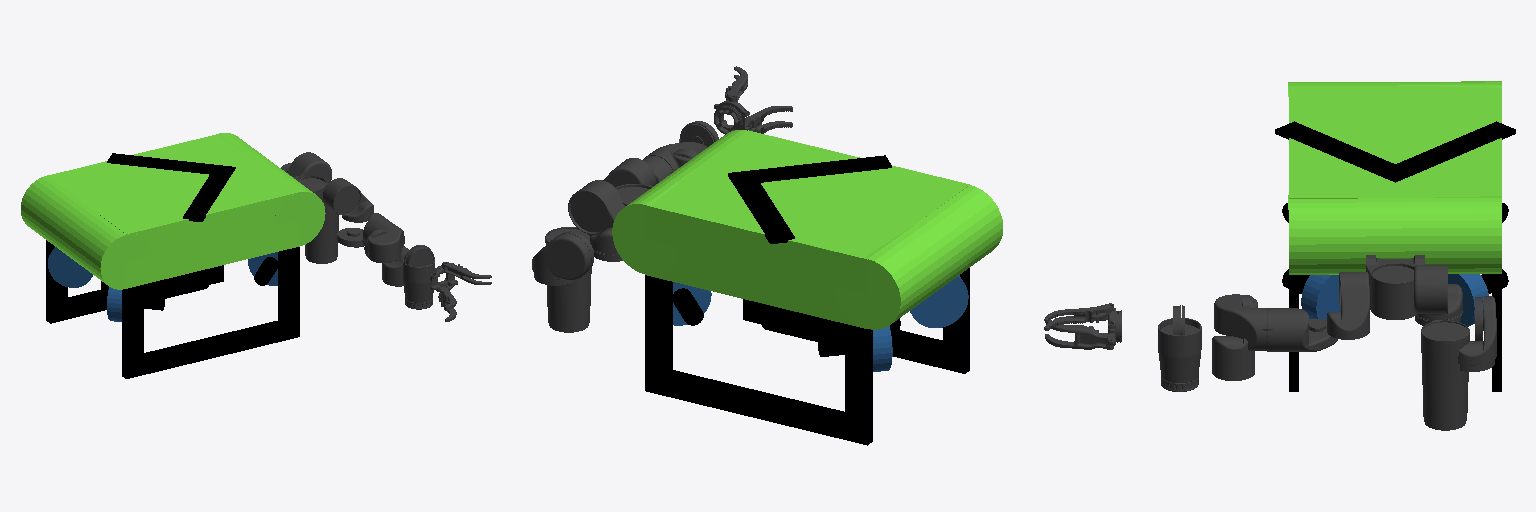
--- Render facts (derived) ---
The picture shows the robot from 3 angles, left to right: view 1: azimuth 30°, elevation 25°; view 2: azimuth 150°, elevation 25°; view 3: azimuth 270°, elevation 25°; orthographic projection.
Model uvms_alpha_seabotix with 32 links and 31 joints (7 revolute, 1 continuous, 1 prismatic, 22 fixed), rooted at vehicle_base_link, posed all joints at 0.
Links seen in each view (by area): view 1: vehicle_base_link, rear_bumper, R_bar, bravo_1013_joint_link, front_bumper, bravo_1023_1_joint_link, F_R_bar, B_R_bar, seabotix_bottle, r_arrow, l_arrow, pa_fan (+6 smaller); view 2: vehicle_base_link, rear_bumper, bravo_1013_joint_link, L_bar, front_bumper, B_L_bar, bravo_1019_end_link, F_L_bar, R_bar, seabotix_bottle, l_arrow, sa_fan (+9 smaller); view 3: vehicle_base_link, front_bumper, bravo_1013_joint_link, bravo_1023_1_joint_link, bravo_base_link, bravo_1019_end_link, bravo_1026_0_joint_link, bravo_1026_1_joint_link, l_arrow, r_arrow, bravo_1023_0_joint_link, sf_fan (+6 smaller).
Link boxes in pixels (x1,y1,x2,y2): vehicle_base_link: (51, 135, 299, 288); rear_bumper: (21, 175, 151, 289); R_bar: (122, 320, 285, 378); bravo_1013_joint_link: (281, 163, 373, 263); front_bumper: (216, 133, 325, 245); bravo_1023_1_joint_link: (403, 245, 457, 309); F_R_bar: (278, 247, 299, 340); B_R_bar: (122, 285, 143, 378); seabotix_bottle: (101, 269, 210, 304); r_arrow: (183, 165, 235, 221); l_arrow: (107, 153, 231, 174); pa_fan: (48, 247, 92, 287); vehicle_base_link: (645, 130, 969, 328); rear_bumper: (834, 185, 1002, 329); bravo_1013_joint_link: (532, 158, 655, 332); L_bar: (645, 370, 872, 444); front_bumper: (612, 130, 746, 275); B_L_bar: (845, 324, 872, 445); bravo_1019_end_link: (568, 180, 625, 261); F_L_bar: (645, 275, 672, 388); R_bar: (743, 299, 969, 373); seabotix_bottle: (759, 303, 900, 348); l_arrow: (728, 170, 794, 243); sa_fan: (910, 275, 968, 327); vehicle_base_link: (1289, 86, 1501, 198); front_bumper: (1288, 195, 1501, 274); bravo_1013_joint_link: (1327, 272, 1496, 430); bravo_1023_1_joint_link: (1108, 305, 1201, 391); bravo_base_link: (1366, 255, 1424, 319); bravo_1019_end_link: (1414, 265, 1462, 325); bravo_1026_0_joint_link: (1267, 308, 1337, 351); bravo_1026_1_joint_link: (1214, 294, 1272, 350); l_arrow: (1377, 121, 1515, 182); r_arrow: (1275, 121, 1412, 181); bravo_1023_0_joint_link: (1212, 295, 1254, 380); sf_fan: (1301, 275, 1339, 318).
Bounding box of the posed robot: 0.8669 × 0.8823 × 0.405 m (x, y, z).
Meshes: 15 distinct files referenced, 15 mesh visuals loaded (15 OBJ).

URDF robot description (uvms_alpha_seabotix):
<?xml version="1.0" encoding="utf-8"?>
<!-- =================================================================================== -->
<!-- |    This document was autogenerated by xacro from test_reach5mini.urdf.xacro     | -->
<!-- |    EDITING THIS FILE BY HAND IS NOT RECOMMENDED                                 | -->
<!-- |    Unless you're Hannah Kolano or Scott Chow  -->
<!-- =================================================================================== -->
<!-- when doing STL -> OBJ conversion, use this to keep origins: https://blender.stackexchange.com/questions/26451/how-to-move-a-complex-object-to-the-origin-without-destroying-it -->
<robot name="uvms_alpha_seabotix">
  <!-- ======================================= -->
  <!-- - - - - - - - MATERIALS - - - - - - - - -->
  <!-- ======================================= -->
    <material name="alpha_black">
      <color rgba="0.6 0.6 0.6 1"/>
    </material>
    <material name="green_v">
      <color rgba="0.5 0.9 0.3 1"/>
    </material>
    <material name="black">
      <color rgba="0 0 0 1"/>
    </material>
    <material name="black_v">
      <color rgba="0 0 0 1"/>
    </material>
    <material name="blue_v">
      <color rgba="0.2 0.4 0.6 1"/>
    </material>
    <material name="orange_v">
      <color rgba="1 .4 0 1"/>
    </material>
    <material name="grey_v">
      <color rgba=".3 .3 .3 1"/>
    </material>
    <material name="red_v">
      <color rgba="1 0 0 1"/>
    </material>

  <!-- ======================================= -->
  <!--               WORLD LINKS               -->
  <!-- ======================================= -->

  <!-- ======================================= -->
  <!--             VEHICLE LINKS               -->
  <!-- ======================================= -->
  <link name="vehicle_base_link">
    <visual>
      <geometry>
        <box size="0.5 0.4 0.15"/>
      </geometry>
      <material name="green_v"/>
      <!-- <origin rpy="1.57075 0 0" xyz="0 0 0"/> -->
      <!-- <origin rpy="0 0 0" xyz="0 0 0"/> -->
      <!-- <material name="alpha_black"/> -->
    </visual>
    <!-- Actual *not added* -->
    <!-- <inertial> -->
      <!-- <mass value="22.2"/>  -->
      <!-- Assume COM is 6cm below the center of the green box (13.5cm from top of vehicle) -->
      <!-- <origin xyz="0.0 0.0 -0.06"/> -->
      <!-- <inertia ixx=".75" ixy="0.0" ixz="0.0"  -->
      <!-- iyy="1.4" iyz="0.0"  -->
      <!-- izz="1.6"/> -->
    <!-- </inertial> -->
    <inertial>
      <!-- Plus small (conservative) added mass -->
      <mass value="30.3"/> 
      <!-- Assume COM is 6cm below the center of the green box (13.5cm from top of vehicle) -->
      <origin xyz="0.0 0.0 -0.06"/>
      <inertia ixx="6.31" ixy="0.0" ixz="0.22" 
      iyy="10.15" iyz="0.0" 
      izz="3.93"/>
    </inertial>
    
    
  </link>

<!-- IF YOU EVER ADD MORE LINKS, MAKE SURE TO CHANGE THE BUOYANCY FRAME VECTOR FOR THE ARM BASE FRAME!!! -->

<!-- ======= Bottom Frame ======= -->
  <link name="F_R_bar">
    <visual>
      <geometry>
        <box size = "0.25 0.02 0.05"/>
      </geometry>
      <material name="black_v"/>
    </visual>
  </link>
    <joint name="FRBarJoint" type="fixed">
      <parent link="vehicle_base_link"/>
      <child link="F_R_bar"/>
      <origin rpy="0 1.57075 0" xyz="0.225 -.19 -.2"/>
    </joint>
  <link name="F_L_bar">
    <visual>
      <geometry>
        <box size = "0.25 0.02 0.05"/>
      </geometry>
      <material name="black_v"/>
    </visual>
  </link>
    <joint name="FLBarJoint" type="fixed">
      <parent link="vehicle_base_link"/>
      <child link="F_L_bar"/>
      <origin rpy="0 1.57075 0" xyz="0.225 .19 -.2"/>
    </joint>
  <link name="B_L_bar">
      <visual>
        <geometry>
          <box size = "0.25 0.02 0.05"/>
        </geometry>
        <material name="black_v"/>
      </visual>
  </link>
    <joint name="BLBarJoint" type="fixed">
      <parent link="vehicle_base_link"/>
      <child link="B_L_bar"/>
      <origin rpy="0 1.57075 0" xyz="-0.225 .19 -.2"/>
    </joint>
  <link name="B_R_bar">
    <visual>
      <geometry>
        <box size = "0.25 0.02 0.05"/>
      </geometry>
      <material name="black_v"/>
    </visual>
  </link>
    <joint name="BRBarJoint" type="fixed">
      <parent link="vehicle_base_link"/>
      <child link="B_R_bar"/>
      <origin rpy="0 1.57075 0" xyz="-0.225 -.19 -.2"/>
    </joint>
  <link name="R_bar">
    <visual>
      <geometry>
        <box size = "0.5 0.02 0.05"/>
      </geometry>
      <material name="black_v"/>
    </visual>
  </link>
    <joint name="RBarJoint" type="fixed">
      <parent link="vehicle_base_link"/>
      <child link="R_bar"/>
      <origin rpy="0 0 0" xyz="0 -.19 -.3"/>
    </joint>
  <link name="L_bar">
    <visual>
      <geometry>
        <box size = "0.5 0.02 0.05"/>
      </geometry>
      <material name="black_v"/>
    </visual>
  </link>
    <joint name="LBarJoint" type="fixed">
      <parent link="vehicle_base_link"/>
      <child link="L_bar"/>
      <origin rpy="0 0 0" xyz="0 .19 -.3"/>
    </joint>

<!-- ======= Front/Back Bumpers ======= -->
  <link name="front_bumper">
    <visual>
      <geometry>
        <cylinder length="0.4" radius="0.075"/>
      </geometry>
      <material name="green_v"/>
     </visual>
  </link>
    <joint name="fbump_link" type="fixed">
      <parent link="vehicle_base_link"/>
      <child link="front_bumper"/>
      <origin rpy="1.57579632679 0 0" xyz="0.25 0 0"/>
    </joint>
  <link name="rear_bumper">
      <visual>
        <geometry>
          <cylinder length="0.4" radius="0.075"/>
        </geometry>
        <material name="green_v"/>
      </visual>
  </link>
    <joint name="rbump_link" type="fixed">
      <parent link="vehicle_base_link"/>
      <child link="rear_bumper"/>
      <origin rpy="1.57579632679 0 0" xyz="-0.25 0 0"/>
    </joint>

<!-- ======= Front Arrow ======= -->
  <link name="l_arrow">
    <visual>
      <geometry>
        <box size="0.05 0.318 0.01"/>
      </geometry>
      <material name="black_v"/>
    </visual>
  </link>
    <joint name="l_arrow_link" type="fixed">
      <parent link="vehicle_base_link"/>
      <child link="l_arrow"/>
      <origin rpy="0 0 0.787898163397" xyz="0.05 0.095 0.075"/>
    </joint>
  <link name="r_arrow">
    <visual>
      <geometry>
        <box size="0.05 0.318 0.01"/>
      </geometry>
      <material name="black_v"/>
    </visual>
  </link>
    <joint name="r_arrow_link" type="fixed">
      <parent link="vehicle_base_link"/>
      <child link="r_arrow"/>
      <origin rpy="0 0 -0.787898163397" xyz="0.05 -0.095 0.075"/>
    </joint>

<!-- ======= Thrusters ======= -->
  <link name="sf_fan">
    <visual>
      <geometry>
        <cylinder length="0.04" radius="0.06"/>
      </geometry>
      <material name="blue_v"/>
    </visual>
  </link>
    <joint name="base_to_sf_fan" type="fixed">
      <parent link="vehicle_base_link"/>
      <child link="sf_fan"/>
      <origin rpy="0 1.57579632679 0.785" xyz="0.22 -0.12 -0.14"/>
    </joint>
  <link name="sf_thruster">
    <visual>
      <geometry>
        <cylinder length="0.1" radius="0.02"/>
      </geometry>
      <material name="black_v"/>
    </visual>
  </link>
    <joint name="sf_fan_thruster_joint" type="fixed">
      <parent link="sf_fan"/>
      <child link="sf_thruster"/>
      <origin xyz="0 0 -0.06"/>
    </joint>
  <link name="pf_fan">
    <visual>
      <geometry>
        <cylinder length="0.04" radius="0.06"/>
      </geometry>
      <material name="blue_v"/>
    </visual>
  </link>
    <joint name="base_to_pf_fan" type="fixed">
      <parent link="vehicle_base_link"/>
      <child link="pf_fan"/>
      <origin rpy="0 1.57579632679 -0.785" xyz="0.22 0.12 -0.14"/>
    </joint>
  <link name="pf_thruster">
    <visual>
      <geometry>
        <cylinder length="0.1" radius="0.02"/>
      </geometry>
      <material name="black_v"/>
    </visual>
  </link>
    <joint name="pf_fan_thruster_joint" type="fixed">
      <parent link="pf_fan"/>
      <child link="pf_thruster"/>
      <origin xyz="0 0 -0.06"/>
    </joint>
  <link name="sa_fan">
    <visual>
      <geometry>
        <cylinder length="0.04" radius="0.06"/>
      </geometry>
      <material name="blue_v"/>
    </visual>
  </link>
    <joint name="base_to_sa_fan" type="fixed">
      <parent link="vehicle_base_link"/>
      <child link="sa_fan"/>
      <origin rpy="0 -1.57579632679 -0.785" xyz="-0.22 -0.12 -0.14"/>
    </joint>
  <link name="sa_thruster">
    <visual>
      <geometry>
        <cylinder length="0.1" radius="0.02"/>
      </geometry>
      <material name="black_v"/>
    </visual>
  </link>
    <joint name="sa_fan_thruster_joint" type="fixed">
      <parent link="sa_fan"/>
      <child link="sa_thruster"/>
      <origin xyz="0 0 -0.06"/>
    </joint>
  <link name="pa_fan">
    <visual>
      <geometry>
        <cylinder length="0.04" radius="0.06"/>
      </geometry>
      <material name="blue_v"/>
    </visual>
  </link>
    <joint name="base_to_pa_fan" type="fixed">
      <parent link="vehicle_base_link"/>
      <child link="pa_fan"/>
      <origin rpy="0 -1.57579632679 0.785" xyz="-0.22 0.12 -0.14"/>
    </joint>
  <link name="pa_thruster">
    <visual>
      <geometry>
        <cylinder length="0.1" radius="0.02"/>
      </geometry>
      <material name="black_v"/>
    </visual>
  </link>
    <joint name="pa_fan_thruster_joint" type="fixed">
      <parent link="pa_fan"/>
      <child link="pa_thruster"/>
      <origin xyz="0 0 -0.06"/>
    </joint>

  <link name="seabotix_bottle">
    <visual>
      <geometry>
        <cylinder length="0.26" radius="0.05"/>
      </geometry>
      <material name="black_v"/>
    </visual>
  </link>
    <joint name="sbottle_link" type="fixed">
      <parent link="vehicle_base_link"/>
      <child link="seabotix_bottle"/>
      <origin rpy="0 1.57579632679 0" xyz="-0.05 0 -0.18"/>
    </joint>

  <joint name="arm_to_vehicle" type="fixed">
    <origin rpy="0 0 0" xyz=".325 0 -.09"/>
    <parent link="vehicle_base_link"/>
    <child link="world"/>
  </joint>
<!-- ======================================= -->
<!--               BRAVO LINKS               -->
<!-- ======================================= -->
  <material name="bravo_black">
    <color rgba="0.3 0.3 0.3 1. "/>
  </material>
  <material name="bravo_finger_jaws_black">
    <color rgba="0.3 0.3 0.3 1. "/>
  </material>
  <link name="world"/>
  <joint name="bravo_joint" type="fixed">
    <origin rpy="1.5708 0 0" xyz="0 0 0"/>
    <parent link="world"/>
    <child link="bravo_base_link"/>
    <origin rpy="0 0 0" xyz="0 0 0"/>
    <dynamics damping="10.0" friction="0.0"/>
  </joint>
  <link name="ee_link"/>
  <joint name="ee_link_joint" type="fixed">
    <parent link="bravo_1023_1_joint_link"/>
    <child link="ee_link"/>
    <origin rpy="0 0 -1.5707" xyz="0 0 0.120"/>
  </joint>
  <link name="bravo_base_link">
    <inertial>
      <mass value="1.25"/>
      <origin xyz="-0.075 -0.006 -0.003"/>
      <inertia ixx="0.002108" ixy="0.00018199999999999998" ixz="-1.4999999999999999e-05" iyy="0.0025729999999999998" iyz="-2.1e-05" izz="0.003483"/>
    </inertial>
    <visual>
      <geometry>
        <mesh filename="package://bpl_bravo_description_real/meshes/RS2-1019_base.obj"/>
      </geometry>
      <material name="bravo_black"/>
      <origin rpy="0.0 -0.0 0.0" xyz="0.0 0.0 0.0"/>
    </visual>
    <collision>
      <geometry>
        <box size="0.0725 0.1112 0.083 "/>
      </geometry>
      <origin rpy="0.0 0.0 0.0" xyz="0.03625 0.0 0.0415"/>
    </collision>
    <collision>
      <geometry>
        <box size="0.05 0.08 0.06"/>
      </geometry>
      <origin rpy="0.0 0.0 0.0" xyz="0.025 -0.04556 0.03"/>
    </collision>
    <collision>
      <geometry>
        <cylinder length="0.083" radius="0.046"/>
      </geometry>
      <origin rpy="0.0 0.0 0.0" xyz="0.0665 0.0 0.0415"/>
    </collision>
  </link>
  <link name="bravo_1019_end_link">
    <inertial>
      <mass value="1.55"/>
      <inertia ixx="0.011441999999999999" ixy="-0.000484" ixz="0.003405" iyy="0.01298" iyz="-0.0012649999999999998" izz="0.003202"/>
      <origin xyz="0.005 -0.001 0.016"/>
    </inertial>
    <visual>
      <geometry>
        <mesh filename="package://bpl_bravo_description_real/meshes/RS2-1019_end.obj"/>
      </geometry>
      <material name="bravo_black"/>
      <origin rpy="0.0 -0.0 0.0" xyz="0.0 0.0 0.0"/>
    </visual>
    <visual>
      <geometry>
        <mesh filename="package://bpl_bravo_description_real/meshes/RS2-1013_base.obj"/>
      </geometry>
      <material name="bravo_black"/>
      <origin rpy="0.0 -0.0 3.1415" xyz="0.0 0.0 0.0"/>
    </visual>
    <collision>
      <geometry>
        <mesh filename="package://bpl_bravo_description_real/meshes/RS2-1019_end.obj"/>
      </geometry>
      <origin rpy="0.0 -0.0 0.0" xyz="0.0 0.0 0.0"/>
    </collision>
    <collision>
      <geometry>
        <cylinder length="0.03" radius="0.046"/>
      </geometry>
      <origin rpy="0.0 -0.0 0.0" xyz="0.0 0.0 0.015"/>
    </collision>
    <collision>
      <geometry>
        <cylinder length="0.1" radius="0.046"/>
      </geometry>
      <origin rpy="1.5707 -0.0 0.0" xyz="0.048 0.0 0.0642"/>
    </collision>
  </link>
  <link name="bravo_1013_joint_link">
    <inertial>
      <mass value="1.14"/>
      <origin xyz="0.022 -0.029 0.001"/>
      <inertia ixx="0.0032129999999999997" ixy="-0.001548" ixz="-3.1e-05" iyy="0.002327" iyz="6e-06" izz="0.00434"/>
    </inertial>
    <visual>
      <geometry>
        <mesh filename="package://bpl_bravo_description_real/meshes/RS2-1013_end.obj"/>
      </geometry>
      <material name="bravo_black"/>
      <origin rpy="0.0 -0.0 0" xyz="0 0 0"/>
    </visual>
    <visual>
      <geometry>
        <mesh filename="package://bpl_bravo_description_real/meshes/RS2-1026_0_base.obj"/>
      </geometry>
      <material name="bravo_black"/>
      <origin rpy="0.0 -0.0 3.14159" xyz="0.04600000000128156 -0.23255 0"/>
    </visual>
    <visual>
      <geometry>
        <mesh filename="package://bpl_bravo_description_real/meshes/RS2-1030.obj"/>
      </geometry>
      <material name="bravo_black"/>
      <origin rpy="3.14159 -0.0 0" xyz="0.046 -0.05055 0"/>
    </visual>
    <collision>
      <geometry>
        <cylinder length="0.03" radius="0.046"/>
      </geometry>
      <origin rpy="0.0 0.0 0.0" xyz="0.046 0.0 -0.03555"/>
    </collision>
    <collision>
      <geometry>
        <cylinder length="0.03" radius="0.0408"/>
      </geometry>
      <origin rpy="3.14159 -0.0 3.14159" xyz="0.04600000000138718 5.227571892886473e-07 -0.24754999999930644"/>
    </collision>
    <collision>
      <geometry>
        <cylinder length="0.0816" radius="0.0408"/>
      </geometry>
      <origin rpy="-1.5708953071795866 -0.0 3.14159" xyz="0.005200000001832204 7.445972960125356e-07 -0.29034999999915573"/>
    </collision>
    <collision>
      <geometry>
        <cylinder length="0.03033333" radius="0.046"/>
      </geometry>
      <origin rpy="3.14159 -0.0 3.14159" xyz="0.046000000000106796 4.0246094175109416e-08 -0.0657166599999466"/>
    </collision>
    <collision>
      <geometry>
        <cylinder length="0.03033333" radius="0.045"/>
      </geometry>
      <origin rpy="3.14159 -0.0 3.14159" xyz="0.04600000000032039 1.207383355971241e-07 -0.0960499999998398"/>
    </collision>
    <collision>
      <geometry>
        <cylinder length="0.03033333" radius="0.044"/>
      </geometry>
      <origin rpy="3.14159 -0.0 3.14159" xyz="0.04600000000053398 2.0123055844401027e-07 -0.126383332999733"/>
    </collision>
    <collision>
      <geometry>
        <cylinder length="0.03033333" radius="0.043"/>
      </geometry>
      <origin rpy="3.14159 -0.0 3.14159" xyz="0.046000000000747575 2.817227828830503e-07 -0.15671666659962621"/>
    </collision>
    <collision>
      <geometry>
        <cylinder length="0.03033333" radius="0.042"/>
      </geometry>
      <origin rpy="3.14159 -0.0 3.14159" xyz="0.04600000000096117 3.6221500679137236e-07 -0.18704999999951943"/>
    </collision>
    <collision>
      <geometry>
        <cylinder length="0.03033333" radius="0.041"/>
      </geometry>
      <origin rpy="3.14159 -0.0 3.14159" xyz="0.04600000000117476 4.427071420697953e-07 -0.21738329999941264"/>
    </collision>
  </link>
  <link name="bravo_1026_0_joint_link">
    <inertial>
      <origin rpy="0.0 -0.0 0.0" xyz="0.017 -0.026 -0.002"/>
      <mass value="1.14"/>
      <inertia ixx="0.021231999999999997" ixy="0.00033" ixz="-0.003738" iyy="0.022251999999999997" iyz="-0.0012779999999999998" izz="0.002054"/>
    </inertial>
    <visual>
      <geometry>
        <mesh filename="package://bpl_bravo_description_real/meshes/RS2-1026_0_end.obj"/>
      </geometry>
      <material name="bravo_black"/>
      <origin rpy="0.0 -0.0 0.0" xyz="0.0 0.0 0.0"/>
    </visual>
    <collision>
      <geometry>
        <cylinder length="0.08" radius="0.0408"/>
      </geometry>
      <origin rpy="0.0 0.0 0.0" xyz="0.0408 0.0 -0.05385"/>
    </collision>
  </link>
  <link name="bravo_1026_1_joint_link">
    <inertial>
      <mass value="1.03"/>
      <origin xyz="0.020 -0.024 0.001"/>
      <inertia ixx="0.00243" ixy="-0.001144" ixz="-3.9999999999999996e-05" iyy="0.002026" iyz="1.1e-05" izz="0.00333"/>
    </inertial>
    <visual>
      <geometry>
        <mesh filename="package://bpl_bravo_description_real/meshes/RS2-1026_1_end.obj"/>
      </geometry>
      <material name="bravo_black"/>
      <origin rpy="0.0 3.14159 0" xyz="0.0 0.0 0.0056"/>
    </visual>
    <visual>
      <geometry>
        <mesh filename="package://bpl_bravo_description_real/meshes/RS2-1023_0_base.obj"/>
      </geometry>
      <material name="bravo_black"/>
      <origin rpy="0.0 3.14159 0" xyz="0.0 0.0 0.0056"/>
    </visual>
    <collision>
      <geometry>
        <cylinder length="0.0056" radius="0.0408"/>
      </geometry>
      <origin rpy="0.0 0.0 3.14159" xyz="0.0 0.0 0.0028"/>
    </collision>
    <collision>
      <geometry>
        <cylinder length="0.03" radius="0.0408"/>
      </geometry>
      <origin rpy="0.0 -0.0 3.14159" xyz="0.0 0.0 0.0206"/>
    </collision>
    <collision>
      <geometry>
        <cylinder length="0.0816" radius="0.0408"/>
      </geometry>
      <origin rpy="1.5707 -0.0 3.14159" xyz="-0.040799999999856354 1.082664635687914e-07 0.0634"/>
    </collision>
  </link>
  <link name="bravo_1023_0_joint_link">
    <inertial>
      <origin rpy="0.0 -0.0 0.0" xyz="0.0 0.003 -0.098"/>
      <mass value="0.333"/>
      <inertia ixx="0.003709" ixy="-2e-06" ixz="-4e-06" iyy="0.003734" iyz="0.0" izz="7.9e-05"/>
    </inertial>
    <visual>
      <geometry>
        <mesh filename="package://bpl_bravo_description_real/meshes/RS2-1023_0_end.obj"/>
      </geometry>
      <material name="bravo_black"/>
      <origin rpy="0.0 -0.0 0.0" xyz="0.0 0.0 0.0"/>
    </visual>
    <collision>
      <geometry>
        <cylinder length="0.08" radius="0.0408"/>
      </geometry>
      <origin rpy="0.0 0.0 0.0" xyz="0.0408 0.0 -0.05385"/>
    </collision>
  </link>
  <link name="bravo_1023_1_joint_link">
    <inertial>
      <origin xyz="0.0 0.003 -0.098"/>
      <mass value="1.04"/>
      <inertia ixx="0.022359" ixy="1e-06" ixz="-1.8999999999999998e-05" iyy="0.022362999999999997" iyz="1.4999999999999999e-05" izz="0.000936"/>
    </inertial>
    <visual>
      <geometry>
        <mesh filename="package://bpl_bravo_description_real/meshes/RS2-1023_1_end.obj"/>
      </geometry>
      <material name="bravo_black"/>
      <origin rpy="0.0 -0.0 0.0" xyz="0.0 0.0 0.0"/>
    </visual>
    <visual>
      <geometry>
        <mesh filename="package://bpl_bravo_description_real/meshes/RS2-1028.obj"/>
      </geometry>
      <material name="bravo_black"/>
      <origin rpy="0.0 -0.0 0.0" xyz="0.0 0.0056 0"/>
    </visual>
    <visual>
      <geometry>
        <mesh filename="package://bpl_bravo_description_real/meshes/end_effectors/RS2-257.obj"/>
      </geometry>
      <material name="bravo_finger_jaws_black"/>
      <origin rpy="3.14159 0 1.57" xyz="0.0 0.1256 0"/>
    </visual>
    <collision>
      <geometry>
        <cylinder length="0.0056" radius="0.0408"/>
      </geometry>
      <origin rpy="0.0 0.0 0.0" xyz="0.0 0.0 0.0028"/>
    </collision>
    <collision>
      <geometry>
        <cylinder length="0.12" radius="0.0408"/>
      </geometry>
      <origin rpy="0.0 -0.0 0.0" xyz="0.0 0.0 0.06559999999999999"/>
    </collision>
    <collision>
      <geometry>
        <cylinder length="0.02" radius="0.05"/>
      </geometry>
      <origin rpy="-9.632679489654805e-05 -9.631751559834678e-05 -1.5706999907215955" xyz="9.632679474766714e-07 0.0 0.13559999995360572"/>
    </collision>
  </link>
  <link name="bravo_push_rod">
    <inertial>
      <origin rpy="0.0 -0.0 0.0" xyz="0.0 0.0 0.0"/>
      <mass value="0.1"/>
      <inertia ixx="0.0001" ixy="0.0" ixz="0.0" iyy="0.0001" iyz="0.0" izz="0.0001"/>
    </inertial>
  </link>
  <link name="bravo_finger_jaws_rs2_300_link">
    <inertial>
      <origin rpy="0.0 -0.0 0.0" xyz="0.05 0.0 0.0"/>
      <mass value="0.24"/>
      <inertia ixx="0.000244" ixy="-1.2e-05" ixz="0.0" iyy="0.00113" iyz="1e-06" izz="0.001178"/>
    </inertial>
    <visual>
      <geometry>
        <mesh filename="package://bpl_bravo_description_real/meshes/end_effectors/RS2-300.obj"/>
      </geometry>
      <material name="bravo_finger_jaws_black"/>
      <origin rpy="0.0 -0.0 0.0" xyz="0.0 0.0 0.0"/>
    </visual>
    <collision>
      <geometry>
        <mesh filename="package://bpl_bravo_description_real/meshes/end_effectors/RS2-300.obj"/>
      </geometry>
      <origin rpy="0.0 -0.0 0.0" xyz="0.0 0.0 0.0"/>
    </collision>
  </link>
  <link name="bravo_finger_jaws_rs2_301_link">
    <inertial>
      <origin rpy="0.0 -0.0 0.0" xyz="0.05 0.0 0.0"/>
      <mass value="0.24"/>
      <inertia ixx="0.000244" ixy="-1.2e-05" ixz="0.0" iyy="0.00113" iyz="1e-06" izz="0.001178"/>
    </inertial>
    <visual>
      <geometry>
        <mesh filename="package://bpl_bravo_description_real/meshes/end_effectors/RS2-301.obj"/>
      </geometry>
      <material name="bravo_finger_jaws_black"/>
      <origin rpy="0.0 -0.0 0.0" xyz="0.0 0.0 0.0"/>
    </visual>
    <collision>
      <geometry>
        <mesh filename="package://bpl_bravo_description_real/meshes/end_effectors/RS2-301.obj"/>
      </geometry>
      <origin rpy="0.0 -0.0 0.0" xyz="0.0 0.0 0.0"/>
    </collision>
  </link>
  <joint name="bravo_axis_g" type="revolute">
    <dynamics damping="10.0" friction="0.0"/>
    <limit effort="500.0" lower="0.0" upper="6.2" velocity="3.0"/>
    <parent link="bravo_base_link"/>
    <child link="bravo_1019_end_link"/>
    <axis xyz=" 0.  0. -1."/>
    <origin rpy="0.0 0.0 3.14159" xyz="0.0665 0.08 0.0"/>
  </joint>
  <joint name="bravo_axis_a" type="prismatic">
    <dynamics damping="10.0" friction="0.0"/>
    <limit effort="1000.0" lower="0.0" upper="0.035" velocity="10.0"/>
    <parent link="bravo_1023_1_joint_link"/>
    <child link="bravo_push_rod"/>
    <axis xyz="0. 0. 1."/>
    <origin rpy="-1.5707 -1.5706999999997038 0.0" xyz="-8.669411487068951e-07 0.008999999958245167 0.12560000008350966"/>
  </joint>
  <joint name="bravo_finger_jaws_rs2_300_joint" type="revolute">
    <limit effort="400.0" lower="0.0" upper="1.0" velocity="3.0"/>
    <mimic joint="bravo_axis_a" multiplier="18.0" offset="0.0"/>
    <parent link="bravo_1023_1_joint_link"/>
    <child link="bravo_finger_jaws_rs2_300_link"/>
    <axis xyz=" 0.  0. -1."/>
    <origin rpy="0 3.14159 -1.5707" xyz="0 0.13529682117078565 -0.033"/>
  </joint>
  <joint name="bravo_finger_jaws_rs2_301_joint" type="revolute">
    <limit effort="400.0" lower="0.0" upper="1.0" velocity="3.0"/>
    <mimic joint="bravo_finger_jaws_rs2_300_joint" multiplier="1.0" offset="0.0"/>
    <parent link="bravo_1023_1_joint_link"/>
    <child link="bravo_finger_jaws_rs2_301_link"/>
    <axis xyz="0. 0. 1."/>
    <origin rpy="0 3.14159 -1.5707" xyz="0 0.13529682117078565 0.033"/>
  </joint>
  <joint name="bravo_axis_b" type="continuous">
    <dynamics damping="10.0" friction="0.0"/>
    <limit effort="500.0" lower="0.0" upper="6.2" velocity="3.0"/>
    <parent link="bravo_1023_0_joint_link"/>
    <child link="bravo_1023_1_joint_link"/>
    <axis xyz=" 0.  0. -1."/>
    <origin rpy="3.14159 -0.0 0" xyz="0.0408 -0.09434999999999824 0"/>
  </joint>
  <joint name="bravo_axis_c" type="revolute">
    <dynamics damping="10.0" friction="0.0"/>
    <limit effort="500.0" lower="0.0" upper="3.2" velocity="3.0"/>
    <parent link="bravo_1026_1_joint_link"/>
    <child link="bravo_1023_0_joint_link"/>
    <axis xyz=" 0. -1.  0."/>
    <origin rpy="0.0 3.14159 3.14159" xyz="-0.041999999999852135 0.0634 0"/>
  </joint>
  <joint name="bravo_axis_d" type="revolute">
    <dynamics damping="10.0" friction="0.0"/>
    <limit effort="500.0" lower="0.0" upper="6.2" velocity="3.0"/>
    <parent link="bravo_1026_0_joint_link"/>
    <child link="bravo_1026_1_joint_link"/>
    <axis xyz=" 0.  0. -1."/>
    <origin rpy="3.14159 -0.0 0.0" xyz="0.0408 -0.09434999999999824 0.0056"/>
  </joint>
  <joint name="bravo_axis_e" type="revolute">
    <dynamics damping="10.0" friction="0.0"/>
    <limit effort="500.0" lower="0.0" upper="3.14" velocity="3.0"/>
    <parent link="bravo_1013_joint_link"/>
    <child link="bravo_1026_0_joint_link"/>
    <axis xyz=" 0. -1.  0."/>
    <origin rpy="0 0 0" xyz="0 -0.29035 0"/>
  </joint>
  <joint name="bravo_axis_f" type="revolute">
    <dynamics damping="10.0" friction="0.0"/>
    <limit effort="500.0" lower="0.0" upper="3.14" velocity="3.0"/>
    <parent link="bravo_1019_end_link"/>
    <child link="bravo_1013_joint_link"/>
    <axis xyz=" 0. -1.  0."/>
    <origin rpy="0.0 -0.0 3.14159" xyz="-0.046 -0.0642 0"/>
  </joint>
  <gazebo>
    <plugin filename="libroboticsgroup_upatras_gazebo_mimic_joint_plugin.so" name="bravo_finger_jaws_rs2_300_jointmimic_joint_plugin">
      <joint>bravo_axis_a</joint>
      <mimicJoint>bravo_finger_jaws_rs2_300_joint</mimicJoint>
      <multiplier>18.0</multiplier>
      <offset>0</offset>
      <sensitiveness>0.0</sensitiveness>
      <!-- if absolute difference between setpoint and process value is below this threshold, do nothing; 0.0 = disable [rad] -->
      <maxEffort>400.0</maxEffort>
      <robotNamespace>bravo</robotNamespace>
    </plugin>
  </gazebo>
  <gazebo>
    <plugin filename="libroboticsgroup_upatras_gazebo_mimic_joint_plugin.so" name="bravo_finger_jaws_rs2_301_jointmimic_joint_plugin">
      <joint>bravo_axis_a</joint>
      <mimicJoint>bravo_finger_jaws_rs2_301_joint</mimicJoint>
      <multiplier>18.0</multiplier>
      <offset>0</offset>
      <sensitiveness>0.0</sensitiveness>
      <!-- if absolute difference between setpoint and process value is below this threshold, do nothing; 0.0 = disable [rad] -->
      <maxEffort>400.0</maxEffort>
      <robotNamespace>bravo</robotNamespace>
    </plugin>
  </gazebo>
  <!-- axis_g -->
  <gazebo reference="bravo_axis_g">
    <implicitSpringDamper>1</implicitSpringDamper>
  </gazebo>
  <!-- axis_f -->
  <gazebo reference="bravo_axis_f">
    <implicitSpringDamper>1</implicitSpringDamper>
  </gazebo>
  <!-- axis_e -->
  <gazebo reference="bravo_axis_e">
    <implicitSpringDamper>1</implicitSpringDamper>
  </gazebo>
  <!-- axis_d -->
  <gazebo reference="bravo_axis_d">
    <implicitSpringDamper>1</implicitSpringDamper>
  </gazebo>
  <!-- axis_c -->
  <gazebo reference="bravo_axis_c">
    <implicitSpringDamper>1</implicitSpringDamper>
  </gazebo>
  <!-- axis_b -->
  <gazebo reference="bravo_axis_b">
    <implicitSpringDamper>1</implicitSpringDamper>
  </gazebo>
  <!-- axis_a -->
  <gazebo reference="bravo_axis_a">
    <implicitSpringDamper>1</implicitSpringDamper>
  </gazebo>
  <!-- Links (added for all links with collision geometry -->
  <gazebo reference="bravo_base_link">
    <mu1>0.2</mu1>
    <mu2>0.2</mu2>
    <turnGravityOff>true</turnGravityOff>
    <!-- gravity is turned off in all these links because moveit_servo + roscontrol don't have gravity compensation built in. -->
  </gazebo>
  <gazebo reference="bravo_1019_end_link">
    <mu1>0.2</mu1>
    <mu2>0.2</mu2>
    <turnGravityOff>true</turnGravityOff>
  </gazebo>
  <!-- 1013_joint_link -->
  <gazebo reference="bravo_1013_joint_link">
    <mu1>0.2</mu1>
    <mu2>0.2</mu2>
    <turnGravityOff>true</turnGravityOff>
  </gazebo>
  <!-- 1026_0_joint_link -->
  <gazebo reference="bravo_1026_0_joint_link">
    <mu1>0.2</mu1>
    <mu2>0.2</mu2>
    <turnGravityOff>true</turnGravityOff>
  </gazebo>
  <!-- 1026_1_joint_link -->
  <gazebo reference="bravo_1026_1_joint_link">
    <mu1>0.2</mu1>
    <mu2>0.2</mu2>
    <turnGravityOff>true</turnGravityOff>
  </gazebo>
  <!-- 1023_0_joint_link -->
  <gazebo reference="bravo_1023_0_joint_link">
    <mu1>0.2</mu1>
    <mu2>0.2</mu2>
    <turnGravityOff>true</turnGravityOff>
  </gazebo>
  <!-- 1023_1_joint_link -->
  <gazebo reference="bravo_1023_1_joint_link">
    <mu1>0.2</mu1>
    <mu2>0.2</mu2>
    <turnGravityOff>true</turnGravityOff>
  </gazebo>
  <gazebo reference="bravo_push_rod">
    <turnGravityOff>true</turnGravityOff>
  </gazebo>
  <!-- Finger 1 -->
  <gazebo reference="bravo_finger_jaws_rs2_300_link">
    <material>Gazebo/Grey</material>
    <mu1>100.0</mu1>
    <mu2>100.0</mu2>
    <turnGravityOff>true</turnGravityOff>
  </gazebo>
  <!-- Finger 2 -->
  <gazebo reference="bravo_finger_jaws_rs2_301_link">
    <material>Gazebo/Grey</material>
    <mu1>100.0</mu1>
    <mu2>100.0</mu2>
    <turnGravityOff>true</turnGravityOff>
  </gazebo>
  <!-- Joint Transmissions -->
  <transmission name="trans_bravo_axis_g">
    <type>transmission_interface/SimpleTransmission</type>
    <joint name="bravo_axis_g">
      <hardwareInterface>hardware_interface/EffortJointInterface</hardwareInterface>
    </joint>
    <actuator name="bravo_axis_g_motor">
      <hardwareInterface>hardware_interface/EffortJointInterface</hardwareInterface>
      <mechanicalReduction>1</mechanicalReduction>
    </actuator>
  </transmission>
  <transmission name="trans_bravo_axis_f">
    <type>transmission_interface/SimpleTransmission</type>
    <joint name="bravo_axis_f">
      <hardwareInterface>hardware_interface/EffortJointInterface</hardwareInterface>
    </joint>
    <actuator name="bravo_axis_f_motor">
      <hardwareInterface>hardware_interface/EffortJointInterface</hardwareInterface>
      <mechanicalReduction>1</mechanicalReduction>
    </actuator>
  </transmission>
  <transmission name="trans_bravo_axis_e">
    <type>transmission_interface/SimpleTransmission</type>
    <joint name="bravo_axis_e">
      <hardwareInterface>hardware_interface/EffortJointInterface</hardwareInterface>
    </joint>
    <actuator name="bravo_axis_e_motor">
      <hardwareInterface>hardware_interface/EffortJointInterface</hardwareInterface>
      <mechanicalReduction>1</mechanicalReduction>
    </actuator>
  </transmission>
  <transmission name="trans_bravo_axis_d">
    <type>transmission_interface/SimpleTransmission</type>
    <joint name="bravo_axis_d">
      <hardwareInterface>hardware_interface/EffortJointInterface</hardwareInterface>
    </joint>
    <actuator name="bravo_axis_d_motor">
      <hardwareInterface>hardware_interface/EffortJointInterface</hardwareInterface>
      <mechanicalReduction>1</mechanicalReduction>
    </actuator>
  </transmission>
  <transmission name="trans_bravo_axis_c">
    <type>transmission_interface/SimpleTransmission</type>
    <joint name="bravo_axis_c">
      <hardwareInterface>hardware_interface/EffortJointInterface</hardwareInterface>
    </joint>
    <actuator name="bravo_axis_c_motor">
      <hardwareInterface>hardware_interface/EffortJointInterface</hardwareInterface>
      <mechanicalReduction>1</mechanicalReduction>
    </actuator>
  </transmission>
  <transmission name="trans_bravo_axis_b">
    <type>transmission_interface/SimpleTransmission</type>
    <joint name="bravo_axis_b">
      <hardwareInterface>hardware_interface/EffortJointInterface</hardwareInterface>
    </joint>
    <actuator name="bravo_axis_b_motor">
      <hardwareInterface>hardware_interface/EffortJointInterface</hardwareInterface>
      <mechanicalReduction>1</mechanicalReduction>
    </actuator>
  </transmission>
  <transmission name="trans_bravo_axis_a">
    <type>transmission_interface/SimpleTransmission</type>
    <joint name="bravo_axis_a">
      <hardwareInterface>hardware_interface/EffortJointInterface</hardwareInterface>
    </joint>
    <actuator name="bravo_axis_a_motor">
      <hardwareInterface>hardware_interface/EffortJointInterface</hardwareInterface>
      <mechanicalReduction>1</mechanicalReduction>
    </actuator>
  </transmission>
  <gazebo>
    <plugin filename="libgazebo_ros_control.so" name="gazebo_ros_control">
      <robotNamespace>bravo</robotNamespace>
      <legacyModeNS>True</legacyModeNS>
    </plugin>
  </gazebo>
  <!-- A box to emulate the depth camera -->
  <!-- <link name="depth_cam_link">
    <pose>0 0 0 0 0 0</pose>
    <visual>
      <origin rpy="0 0 0" xyz="-0.05 0 -0.02"/>
      <geometry>
        <box size="0.05 0.12 0.07"/>
      </geometry>
      <material name="Orange">
        <color rgba="0.84 0.246 0.035 1.0"/>
      </material>
    </visual>
    <collision>
      <origin rpy="0 0 0" xyz="-0.05 0 -0.02"/>
      <geometry>
        <box size="0.05 0.12 0.07"/>
      </geometry>
    </collision>
  </link> -->
  <!-- workaround for rotated kinect output -->
  <!-- https://answers.gazebosim.org/question/4266/gazebo-15-libgazebo_openni_kinectso-pointcloud-data-is-rotated-and-flipped/?answer=26388#post-id-26388 -->
  <!-- <link name="kinect_optical_link"/>
  <joint name="depth_cam_to_kinect_optical_link" type="fixed">
    <parent link="depth_cam_link"/>
    <child link="kinect_optical_link"/>
    <origin rpy="-1.5708 0 -1.5708"/>
  </joint>
  <gazebo reference="depth_cam_link">
    <static>1</static>
    <sensor name="camera" type="depth">
      <updateRate>30.0</updateRate>
      <camera>
        <horizontal_fov>1.047</horizontal_fov>
        <image>
          <width>300</width>
          <height>300</height>
          <format>R8G8B8</format>
        </image>
        <clip>
          <near>0.25</near>
          <far>100</far>
        </clip>
      </camera>
      <!http://gazebosim.org/tutorials/?tut=ros_depth_camera -->
      <!-- <plugin filename="libgazebo_ros_openni_kinect.so" name="camera_plugin">
        <baseline>0.2</baseline>
        <alwaysOn>true</alwaysOn>
        <Keep this zero, update_rate in the parent <sensor> tag
            will control the frame rate. -->
        <!-- <updateRate>0.0</updateRate>
        <cameraName>camera_ir</cameraName>
        <imageTopicName>/camera/color/image_raw</imageTopicName>
        <cameraInfoTopicName>/camera/color/camera_info</cameraInfoTopicName>
        <depthImageTopicName>/camera/depth/image_raw</depthImageTopicName>
        <depthImageCameraInfoTopicName>/camera/depth/camera_info</depthImageCameraInfoTopicName>
        <pointCloudTopicName>/camera/depth/points</pointCloudTopicName>
        <frameName>/kinect_optical_link</frameName>
        <pointCloudCutoff>0.1</pointCloudCutoff>
        <pointCloudCutoffMax>3.0</pointCloudCutoffMax>
        <distortionK1>0</distortionK1>
        <distortionK2>0</distortionK2>
        <distortionK3>0</distortionK3>
        <distortionT1>0</distortionT1>
        <distortionT2>0</distortionT2>
        <CxPrime>0</CxPrime>
        <Cx>0</Cx>
        <Cy>0</Cy>
        <focalLength>0</focalLength>
        <hackBaseline>0</hackBaseline>
      </plugin>
    </sensor>
  </gazebo> -->
  <!--
        The depth camera is mounted parallel to the jaws on the wrist, but is
        measured from a frame coincident with bravo_1028_base_link. So we add a
        virtual link to account for the jaw_yaw_offset roll calibration, with the
        same origin but a slight roll.
        -->
  <!-- <link name="depth_cam_measurement_link"/>
  <joint name="jaw_offset_frame" type="fixed">
    <parent link="bravo_1023_1_joint_link"/>
    <child link="depth_cam_measurement_link"/>
    <origin rpy="0 0 0" xyz="0 0 0"/>
  </joint>
  <joint name="depth_cam_measurement" type="fixed">
    <parent link="depth_cam_measurement_link"/>
    <child link="depth_cam_link"/>
    <origin rpy="1.5708 -1.5708 0" xyz="-0.006 -0.078 0.070"/>
  </joint> -->
</robot>
